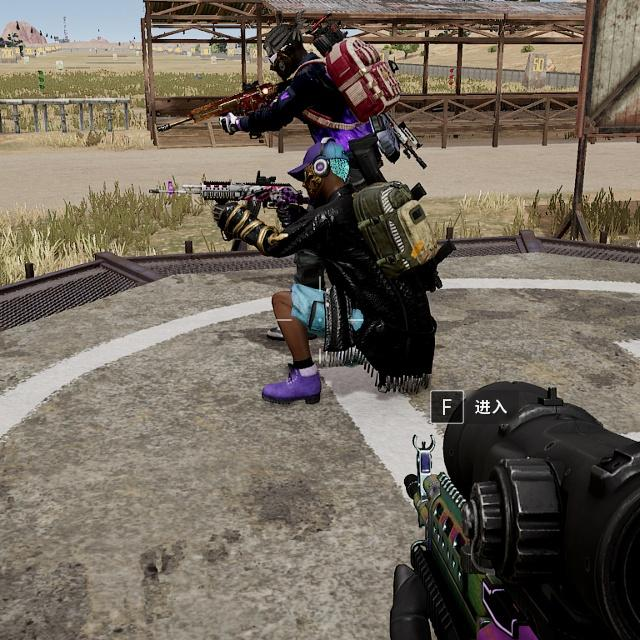head: (296, 138, 357, 211), (258, 20, 315, 87)
people: (220, 143, 438, 411), (230, 23, 412, 174)
